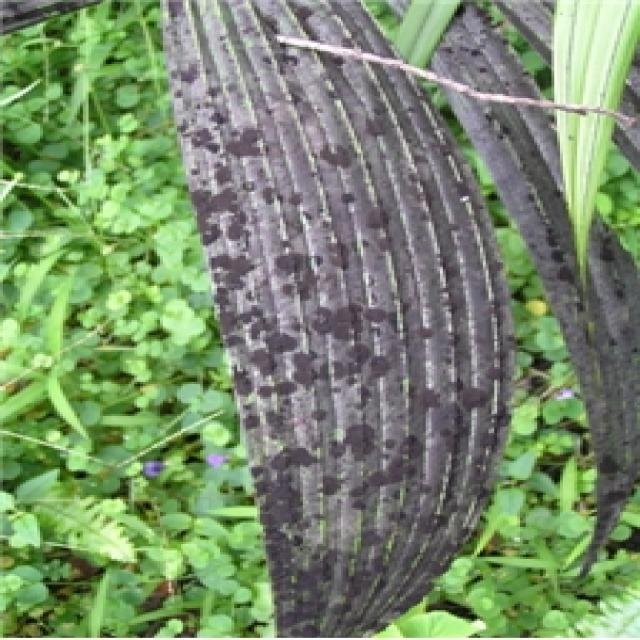Sooty Mold: (152, 0, 517, 636)
